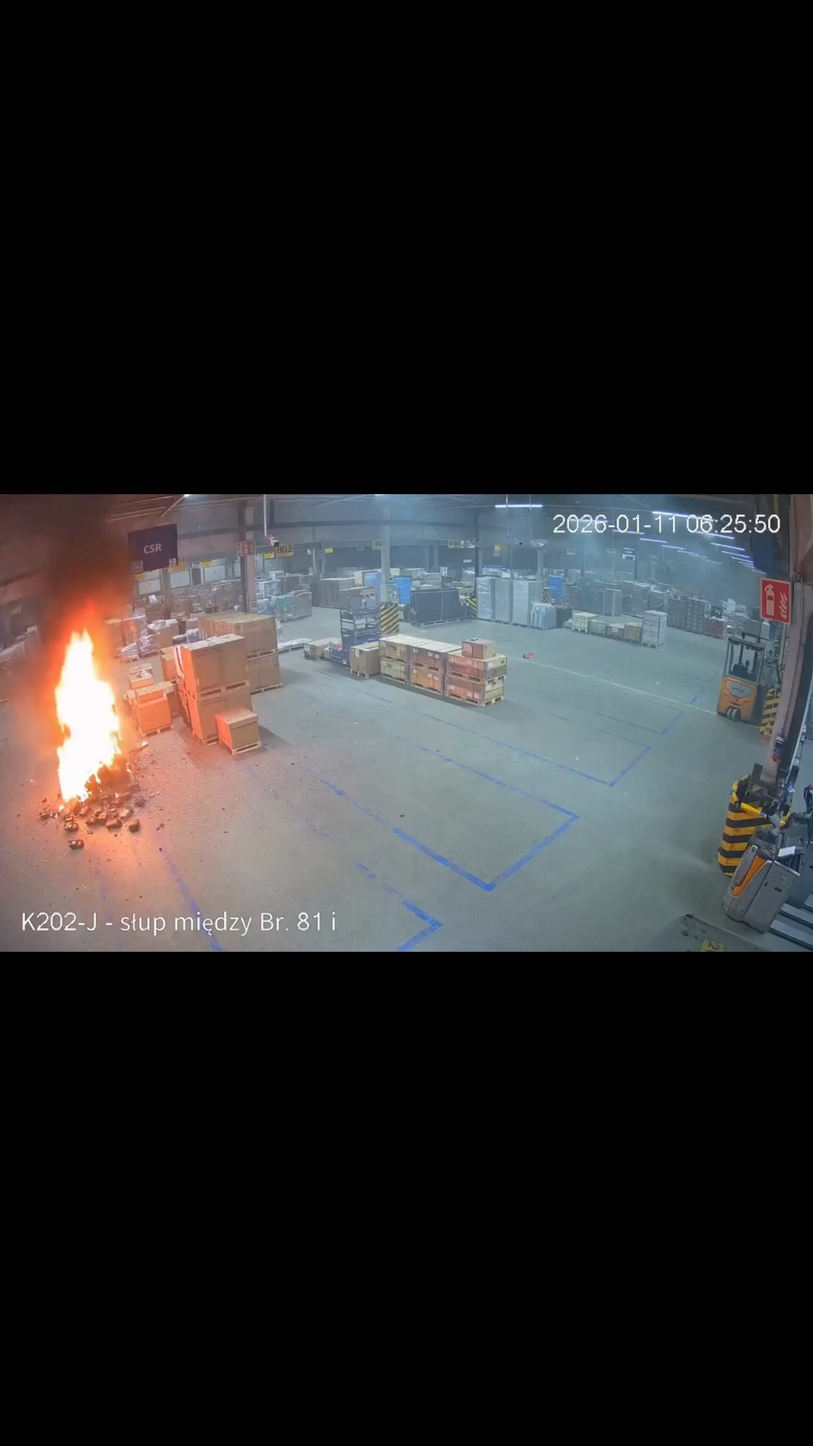fire: (50, 615, 129, 814)
smoke: (0, 495, 139, 635)
